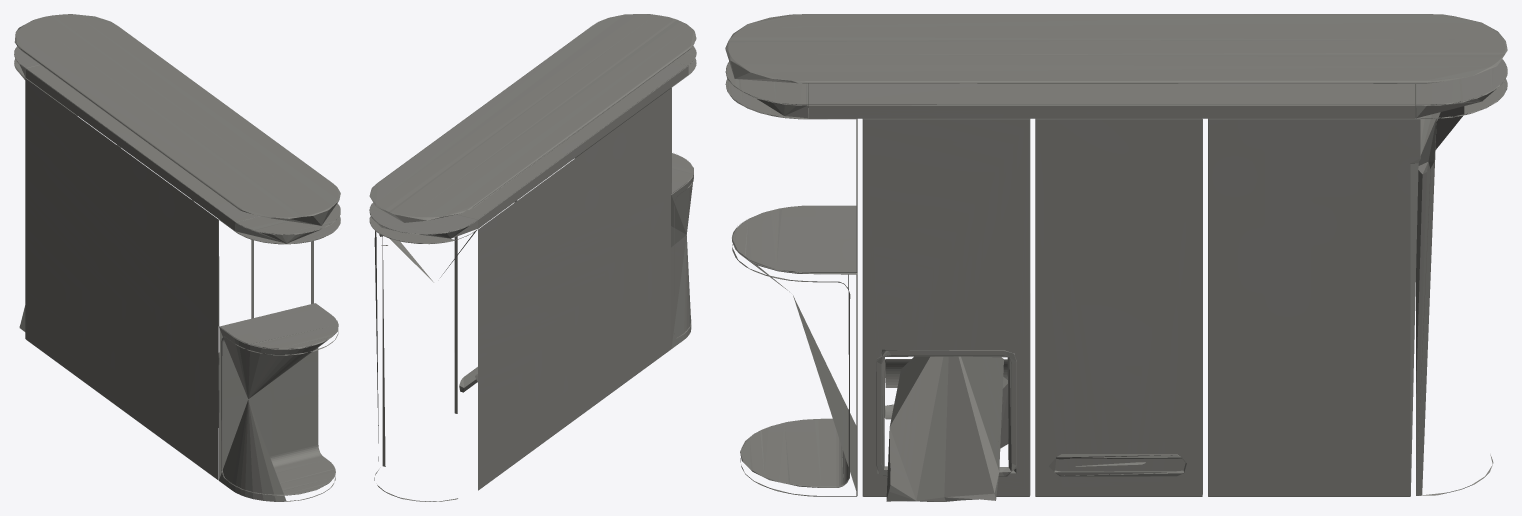
Rendered from dispenser_a01.glb.
3 renders of one model, left to right at view 1: azimuth 30°, elevation 25°; view 2: azimuth 150°, elevation 25°; view 3: azimuth 270°, elevation 25°, orthographic. The views are drawn at different scales.
Visible parts, largest first — view 1: geometry_0; view 2: geometry_0; view 3: geometry_0.
Part boxes in pixels (<box>): geometry_0: <box>14,14,340,501</box>; geometry_0: <box>369,14,696,501</box>; geometry_0: <box>725,14,1507,501</box>.
Bounding box in the file's own units: 0.1055 × 0.2534 × 0.42.
Materials: 1 (1 with a texture image).
